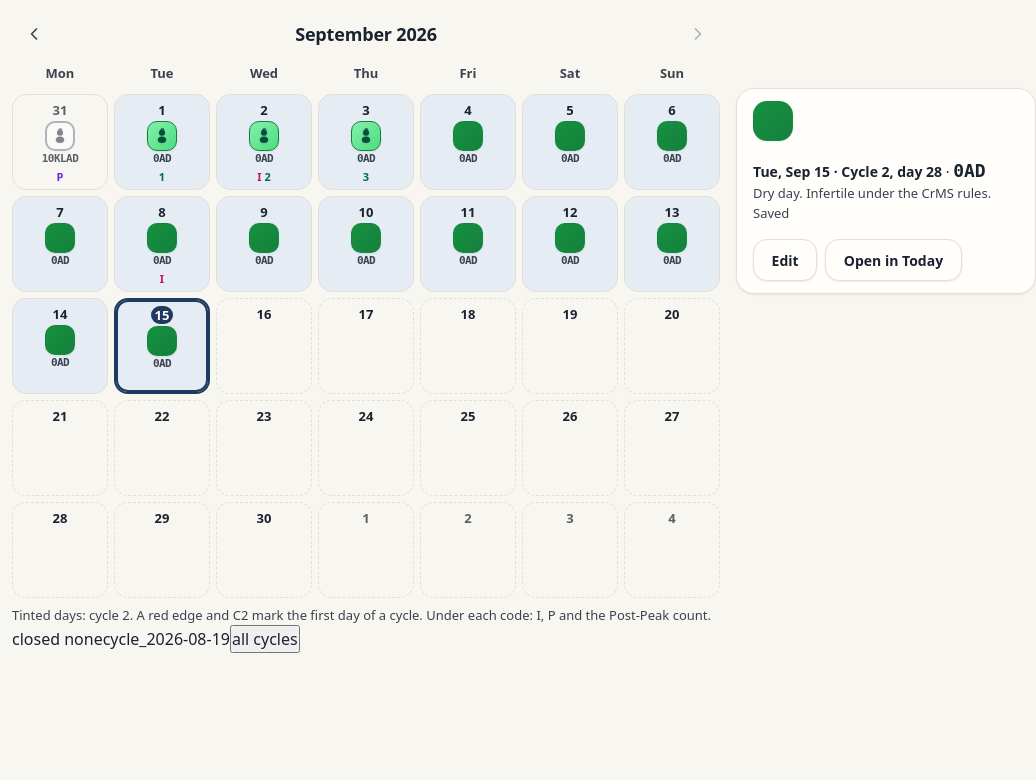
Test: CalendarGrid on a desktop › selects a day with a click instead of opening the drawer, and edits it from the panel
Click the button "10 0AD". click: (366,244)
box: [318, 196, 414, 292]
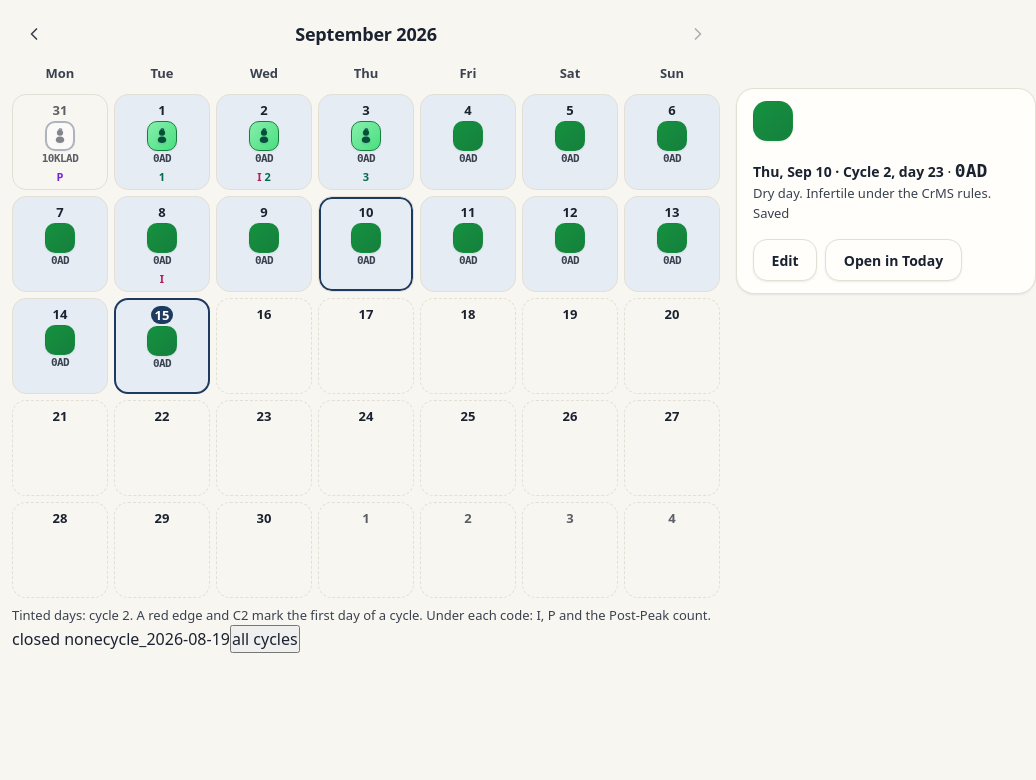
Expected: the text with test id "drawer" shows "closed", [12, 628, 103, 650]
Expected: the element named "Selected day" shows "Cycle 2, day 23", [753, 162, 944, 181]
Click the button "Edit". click: (785,260)
box: [753, 239, 817, 281]
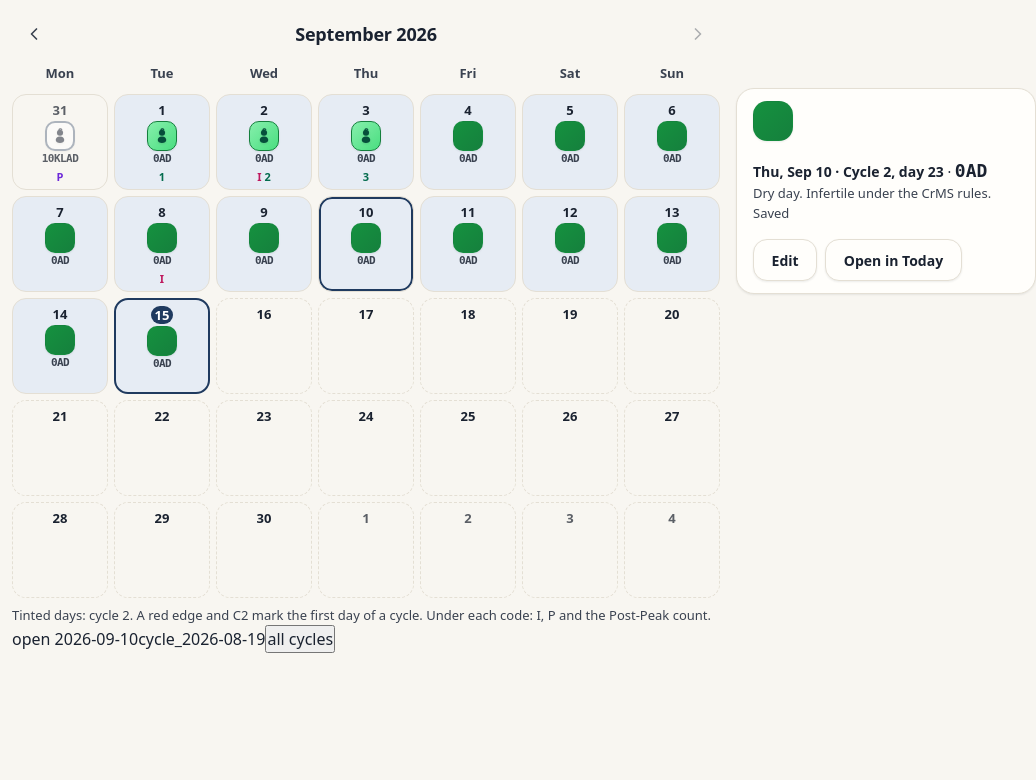
Expected: the text with test id "drawer" reads "open 2026-09-10", [12, 628, 138, 650]
